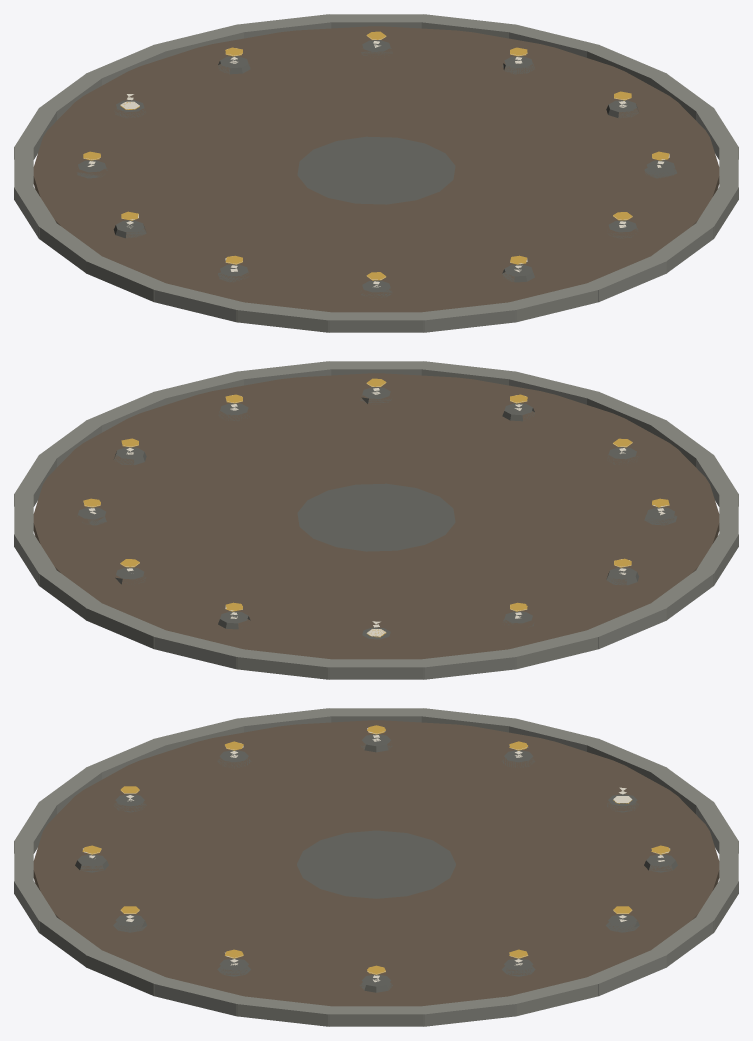
The model's file is prop_gut_floor_lod1.glb.
3 renders of one model, top to bottom at view 1: azimuth 30°, elevation 25°; view 2: azimuth 150°, elevation 25°; view 3: azimuth 270°, elevation 25°, orthographic.
Parts seen in each view (by area): view 1: prop_gut_floor_lod1; view 2: prop_gut_floor_lod1; view 3: prop_gut_floor_lod1.
Part boxes in pixels (x1,y1,x2,y2): prop_gut_floor_lod1: (14,14,738,332); prop_gut_floor_lod1: (14,361,738,679); prop_gut_floor_lod1: (14,708,738,1026).
Bounding box in the file's own units: 12.75 × 0.475 × 12.75.
